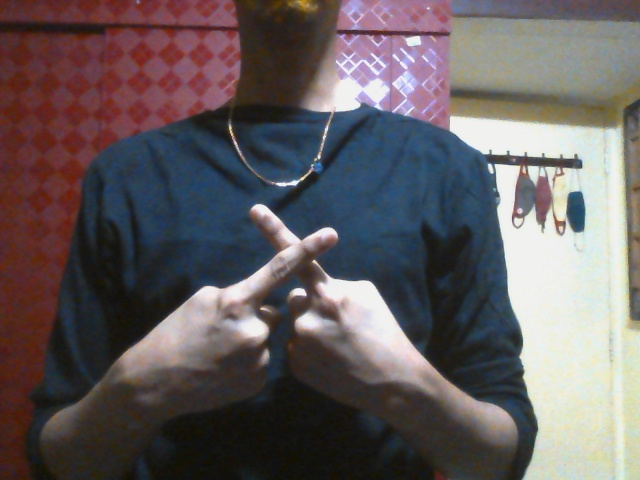X: (145, 204, 405, 423)
